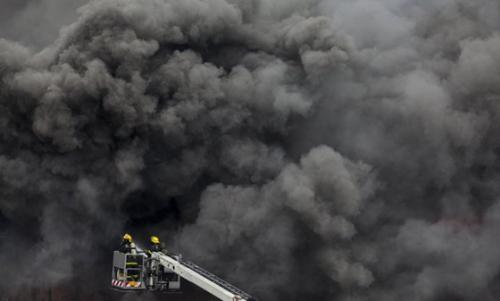smoke: (52, 24, 485, 227)
